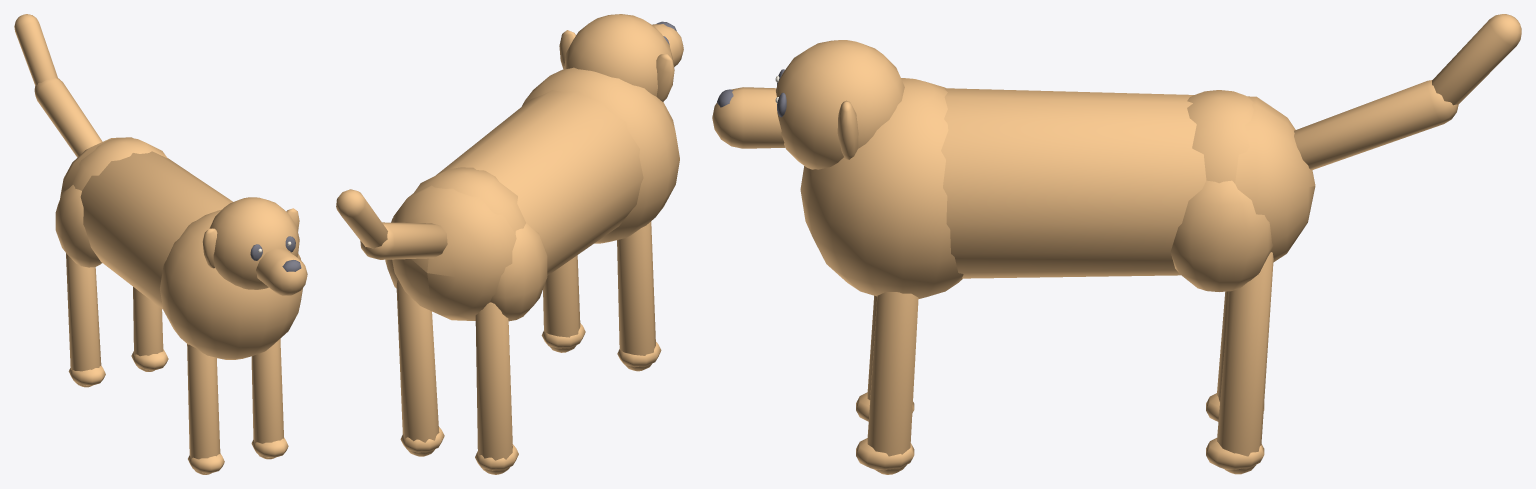
File: dog-golden-retriever.glb
3 renders of one model, left to right at view 1: azimuth 30°, elevation 25°; view 2: azimuth 150°, elevation 25°; view 3: azimuth 270°, elevation 25°, orthographic. The views are drawn at different scales.
Visible parts, largest first — view 1: dog-retriever; view 2: dog-retriever; view 3: dog-retriever.
Part boxes in pixels (x1=…): dog-retriever: x1=14, y1=14, x2=307, y2=474; dog-retriever: x1=336, y1=14, x2=683, y2=474; dog-retriever: x1=712, y1=14, x2=1521, y2=474.
Size of the model in its own units: 0.3136 by 0.6969 by 1.18.
